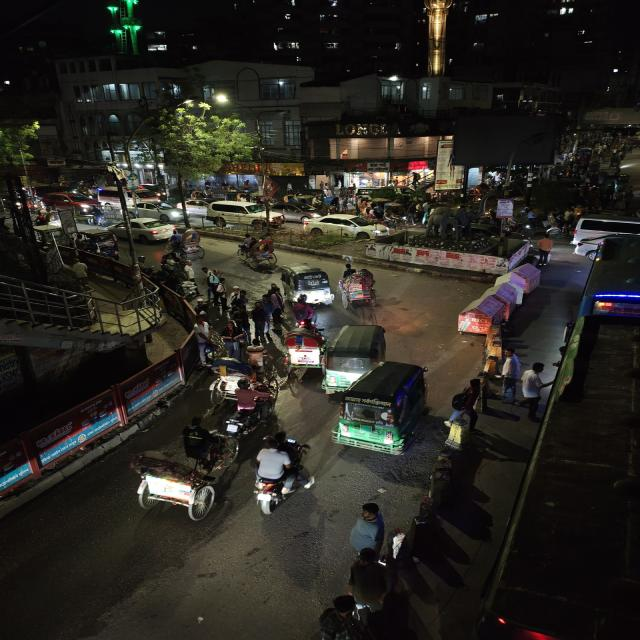bicycle: (84, 211, 111, 228)
bus: (578, 231, 640, 330)
car: (208, 200, 280, 226), (313, 213, 381, 240), (134, 217, 172, 245), (134, 201, 186, 221), (281, 203, 321, 226), (53, 192, 96, 208), (127, 186, 158, 207), (189, 199, 211, 216)
cng: (334, 360, 430, 458), (320, 322, 388, 387), (282, 264, 337, 306)
motorcycle: (249, 436, 311, 515), (222, 388, 282, 436), (233, 233, 282, 274)
pedestrian: (344, 546, 388, 604), (314, 592, 363, 640), (346, 501, 388, 553), (450, 374, 488, 431), (519, 359, 546, 417), (477, 352, 508, 401), (498, 349, 524, 405), (247, 302, 272, 340), (289, 294, 316, 329), (535, 235, 556, 265)
rickshaw: (122, 426, 242, 522), (277, 323, 325, 372), (233, 233, 282, 274), (338, 266, 383, 310), (169, 228, 209, 260)
